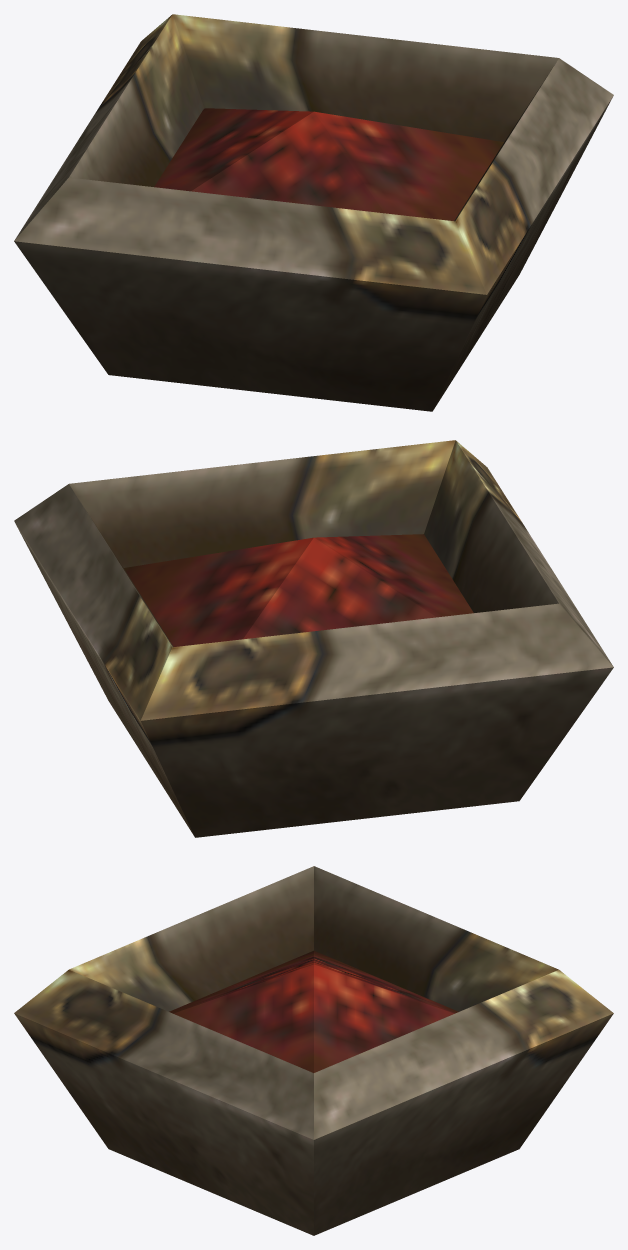
Rendered from SN_bfzt01_qiangbi_huopan.FBX.
3 renders of one model, top to bottom at view 1: azimuth 30°, elevation 25°; view 2: azimuth 150°, elevation 25°; view 3: azimuth 270°, elevation 25°, orthographic. The views are drawn at different scales.
Visible parts, largest first — view 1: SN_bfzt01_qiangbi_huopan; view 2: SN_bfzt01_qiangbi_huopan; view 3: SN_bfzt01_qiangbi_huopan.
Boxes of the visible parts, bbox=[...] form: SN_bfzt01_qiangbi_huopan: bbox=[14, 14, 613, 411]; SN_bfzt01_qiangbi_huopan: bbox=[14, 440, 613, 837]; SN_bfzt01_qiangbi_huopan: bbox=[14, 866, 613, 1235].
Size of the model in its own units: 102 by 102 by 34.5.
